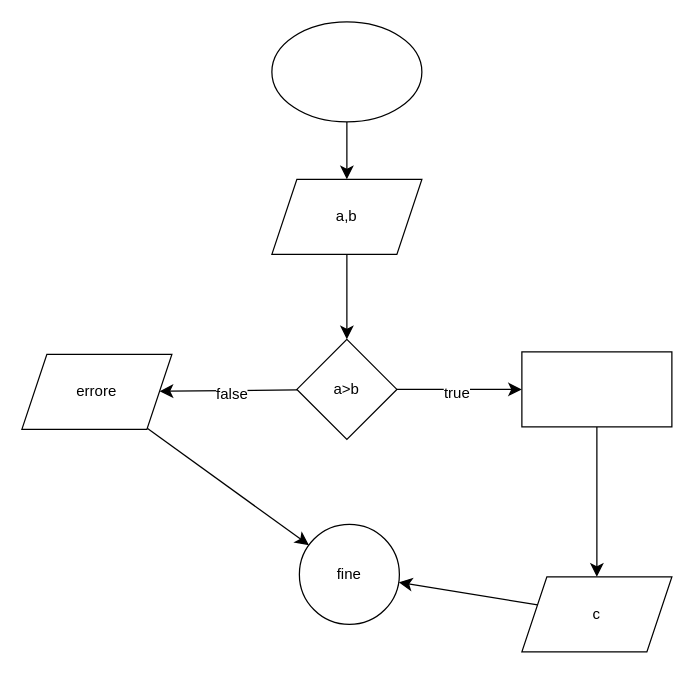
This 694x674 diagram has some shape labels left out. The shapes that lost their labels are listed below. From the top down, each one's centre as x and y in pixels, then its label:
At [346,71]: "Inizio".
At [596,389]: "c= sqrt(a^2-b^2)".
